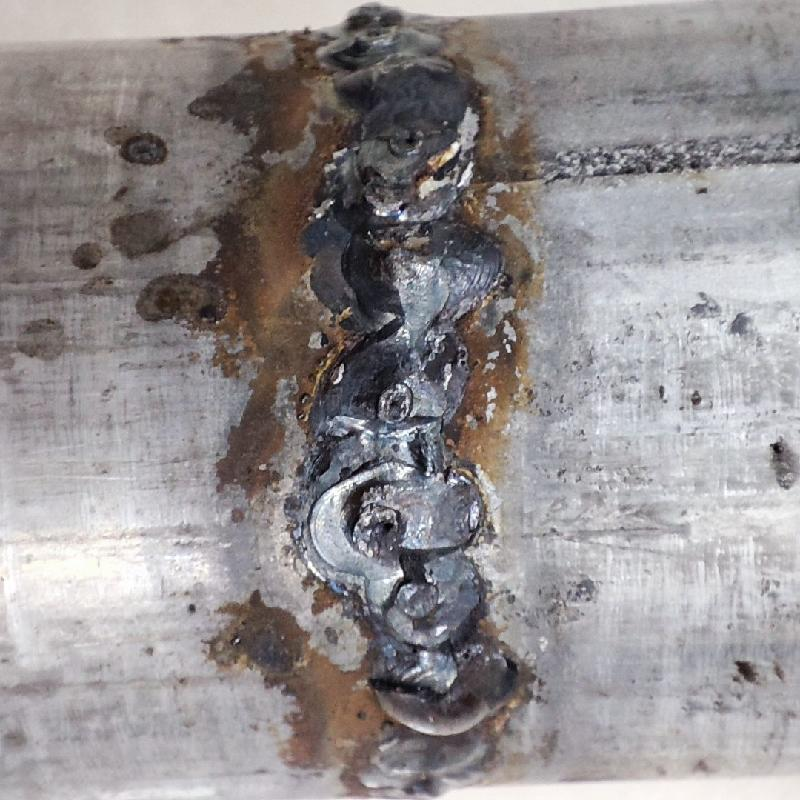Surface_pores: (383, 118, 439, 171), (367, 379, 429, 426), (348, 497, 399, 551)
Weld: (360, 658, 518, 736)
wrong_size: (313, 2, 528, 738)
